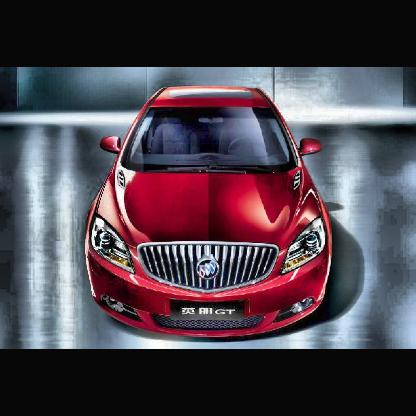Buick Verano Sedan 2012: (84, 87, 335, 339)
